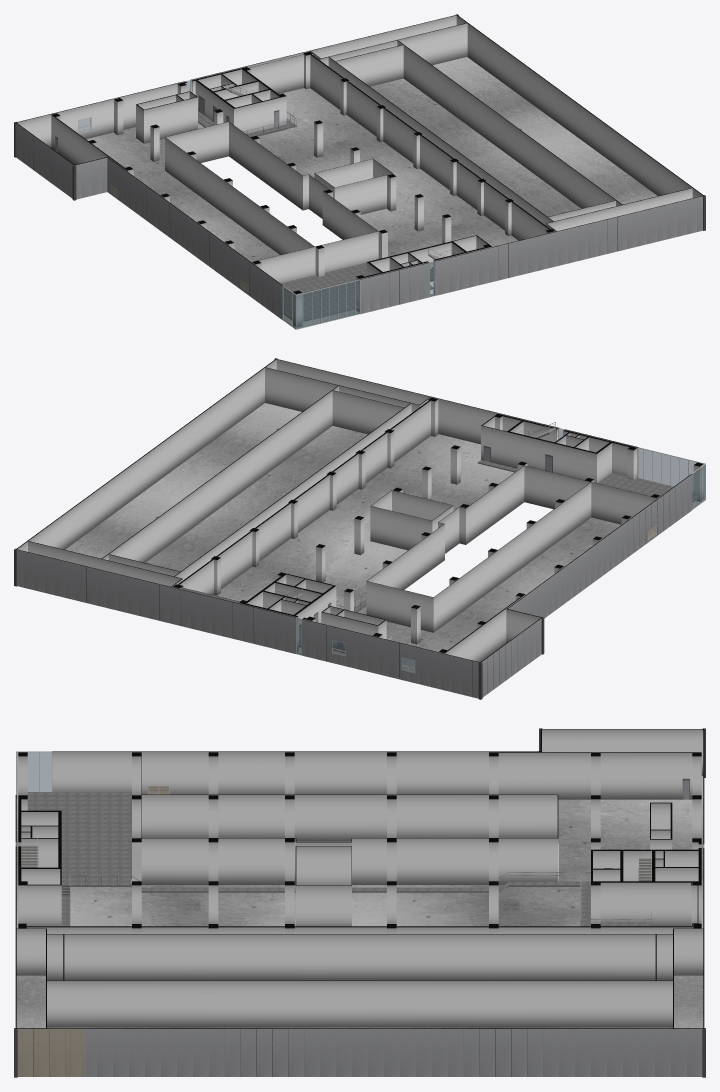
3 views of the same model, one above another, from view 1: azimuth 30°, elevation 25°; view 2: azimuth 150°, elevation 25°; view 3: azimuth 270°, elevation 25° (orthographic). The views are drawn at different scales.
Parts seen in each view (by area): view 1: Rectangle1712, Line1192, Rectangle1754, Rectangle1735; view 2: Rectangle1712, Line1192, Rectangle1735, Rectangle1754; view 3: Rectangle1712, Line1192, Rectangle1754, Rectangle1735, Railing073, Shape001, Rectangle1778.
Part boxes in pixels (<box>): Rectangle1712: <box>16,15,703,327</box>; Line1192: <box>86,57,657,328</box>; Rectangle1754: <box>198,111,366,321</box>; Rectangle1735: <box>78,80,435,329</box>; Rectangle1712: <box>16,359,703,698</box>; Line1192: <box>65,403,705,671</box>; Rectangle1735: <box>296,428,705,673</box>; Rectangle1754: <box>298,460,699,647</box>; Rectangle1712: <box>15,729,704,1076</box>; Line1192: <box>16,776,703,1028</box>; Rectangle1754: <box>27,792,651,926</box>; Rectangle1735: <box>15,751,704,847</box>; Railing073: <box>21,837,651,881</box>; Shape001: <box>69,872,651,925</box>; Rectangle1778: <box>14,728,705,1077</box>.
Size of the model in its own units: 67.15 by 6 by 65.15.
Materials: 17 (13 with a texture image).
